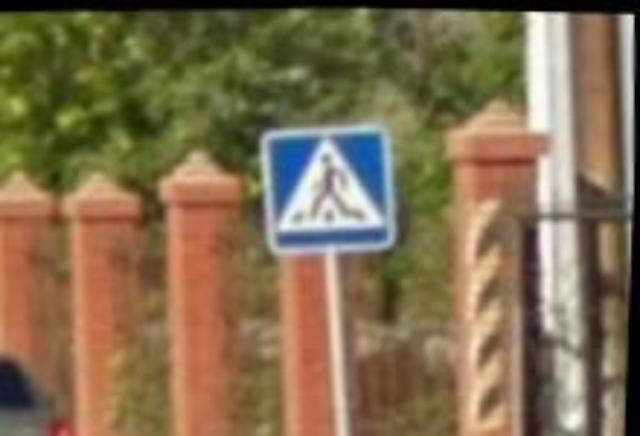crosswalk-sign: (258, 124, 397, 257)
